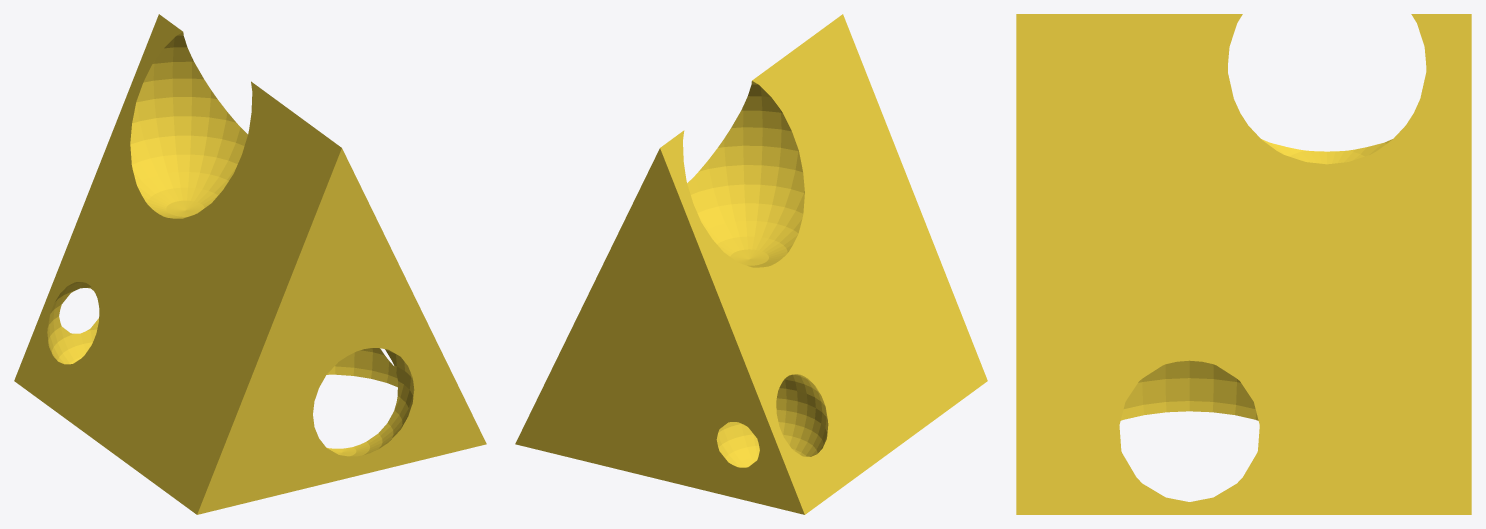
The model's file is cheese.fbx.
The picture shows the model from 3 angles, left to right: view 1: azimuth 30°, elevation 25°; view 2: azimuth 150°, elevation 25°; view 3: azimuth 270°, elevation 25°; orthographic projection. The views are drawn at different scales.
Parts seen in each view (by area): view 1: Cube; view 2: Cube; view 3: Cube.
Part boxes in pixels (bbox=[...]): Cube: bbox=[14, 14, 486, 514]; Cube: bbox=[515, 14, 987, 514]; Cube: bbox=[1016, 14, 1471, 514].
Size of the model in its own units: 183 by 200 by 200.
